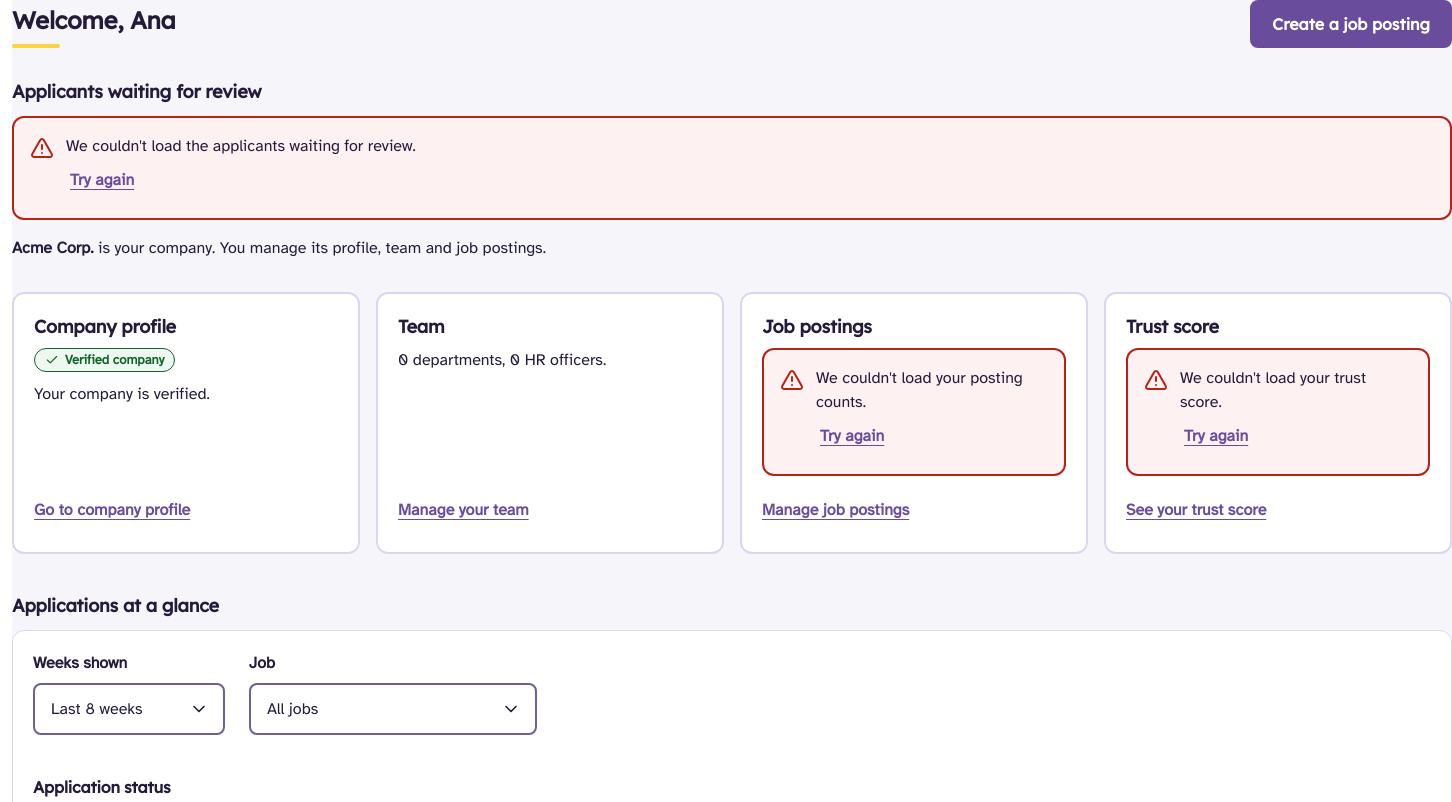
EmployerDashboard › says when the posting counts cannot be loaded, and tries again
The image size is (1452, 802).
expect the text "We couldn't load your posting counts." is shown: met, box [816,366,1048,414]
Click the button "Try again" below "We couldn't load your posting counts.": point(852, 436) [816,414,888,458]
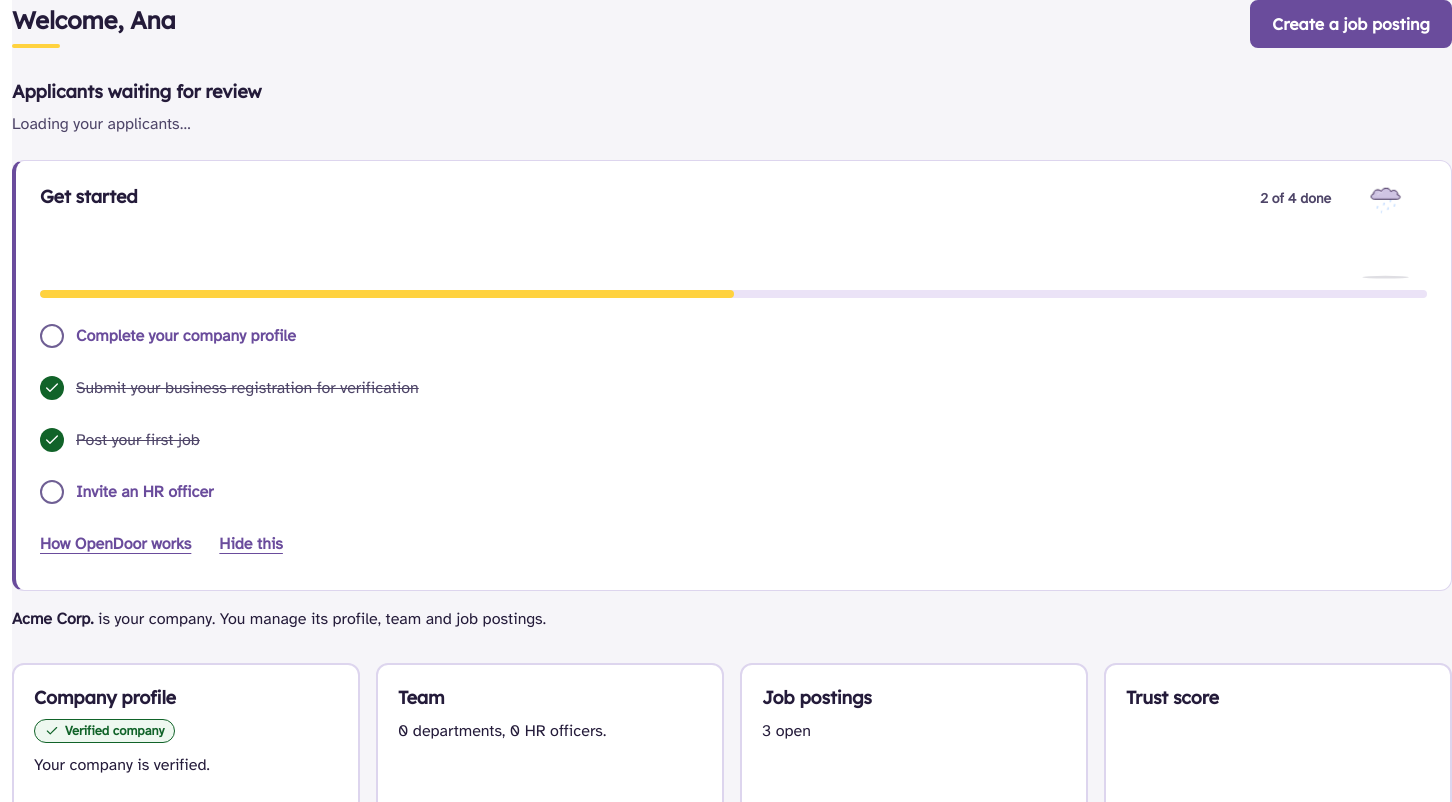
expect the list item "3 open" is shown: met, box [762,722,811,742]
expect the text "We couldn't load your posting counts." is gone: met
